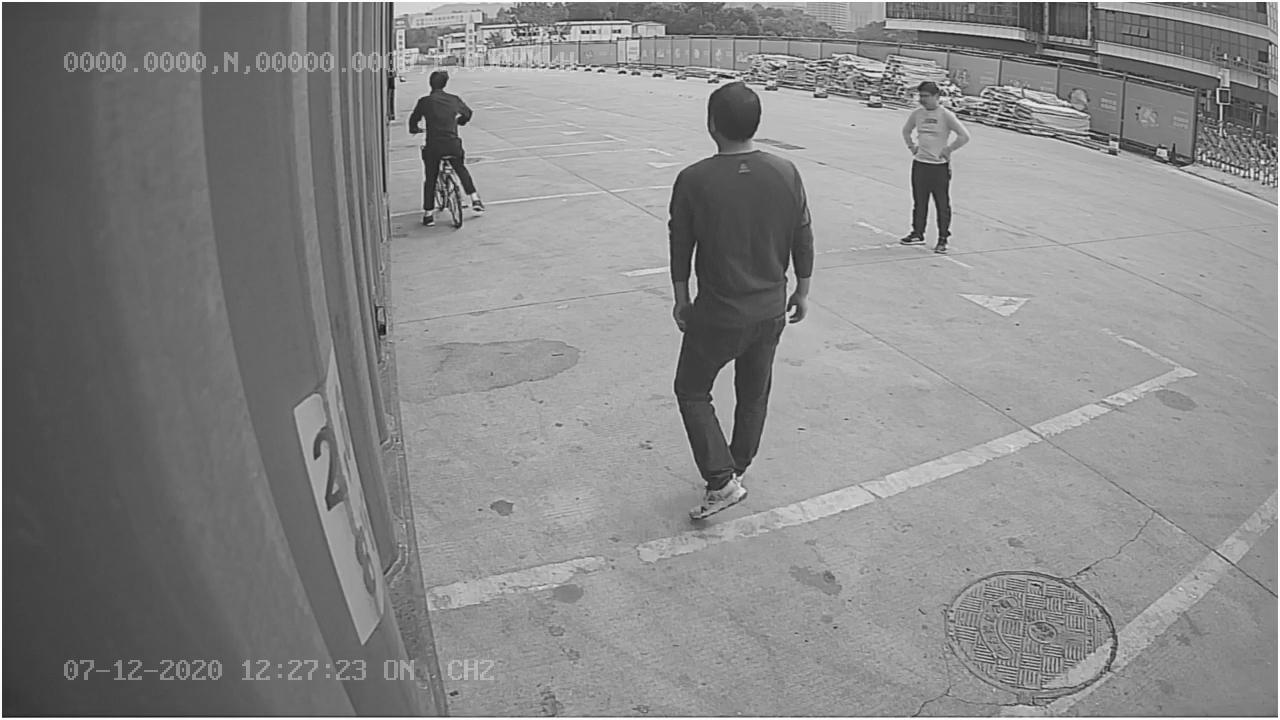person: (655, 75, 823, 532)
